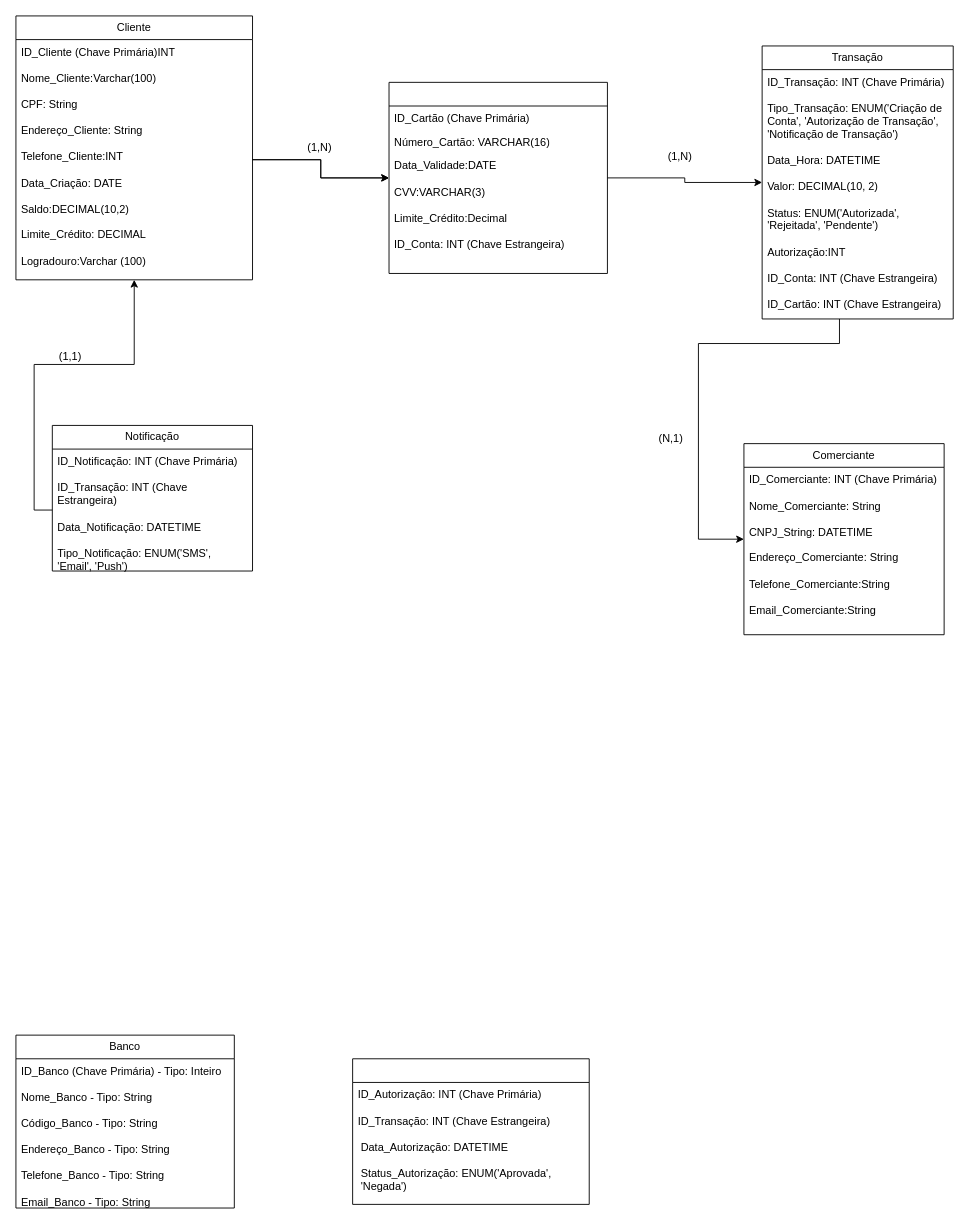
Image size: 969x1227. Some labels were removed from this diagram. Here are the shapes that lost their labels. From the top down, the box of each, then its label:
(388, 81, 607, 273): Cartao
(352, 1058, 589, 1204): Autorizacao
